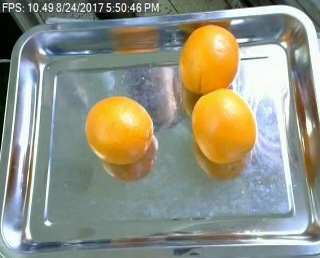Orange: (190, 87, 257, 164), (82, 93, 153, 164), (178, 24, 239, 94)
